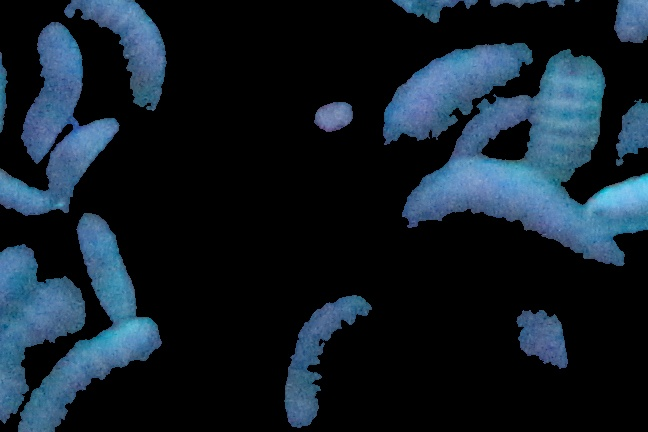larvae: (402, 159, 625, 268), (18, 319, 158, 432), (380, 40, 532, 143), (280, 287, 375, 427), (1, 283, 84, 420), (67, 1, 166, 108), (527, 50, 606, 182), (21, 20, 82, 162), (78, 212, 138, 318), (48, 116, 119, 195), (448, 94, 531, 159), (583, 173, 648, 236), (1, 165, 51, 218)
